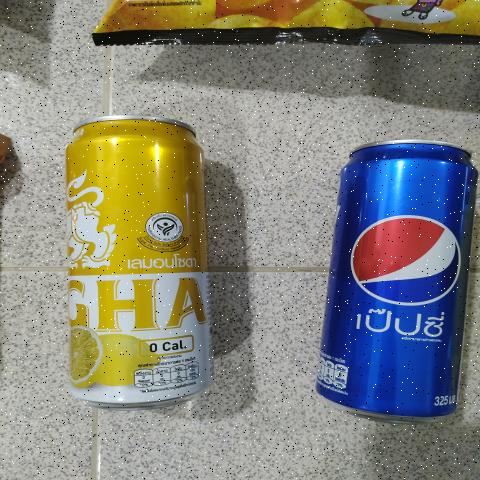pepsi_blue: (322, 120, 479, 433)
singha_yellow: (54, 111, 222, 414)
